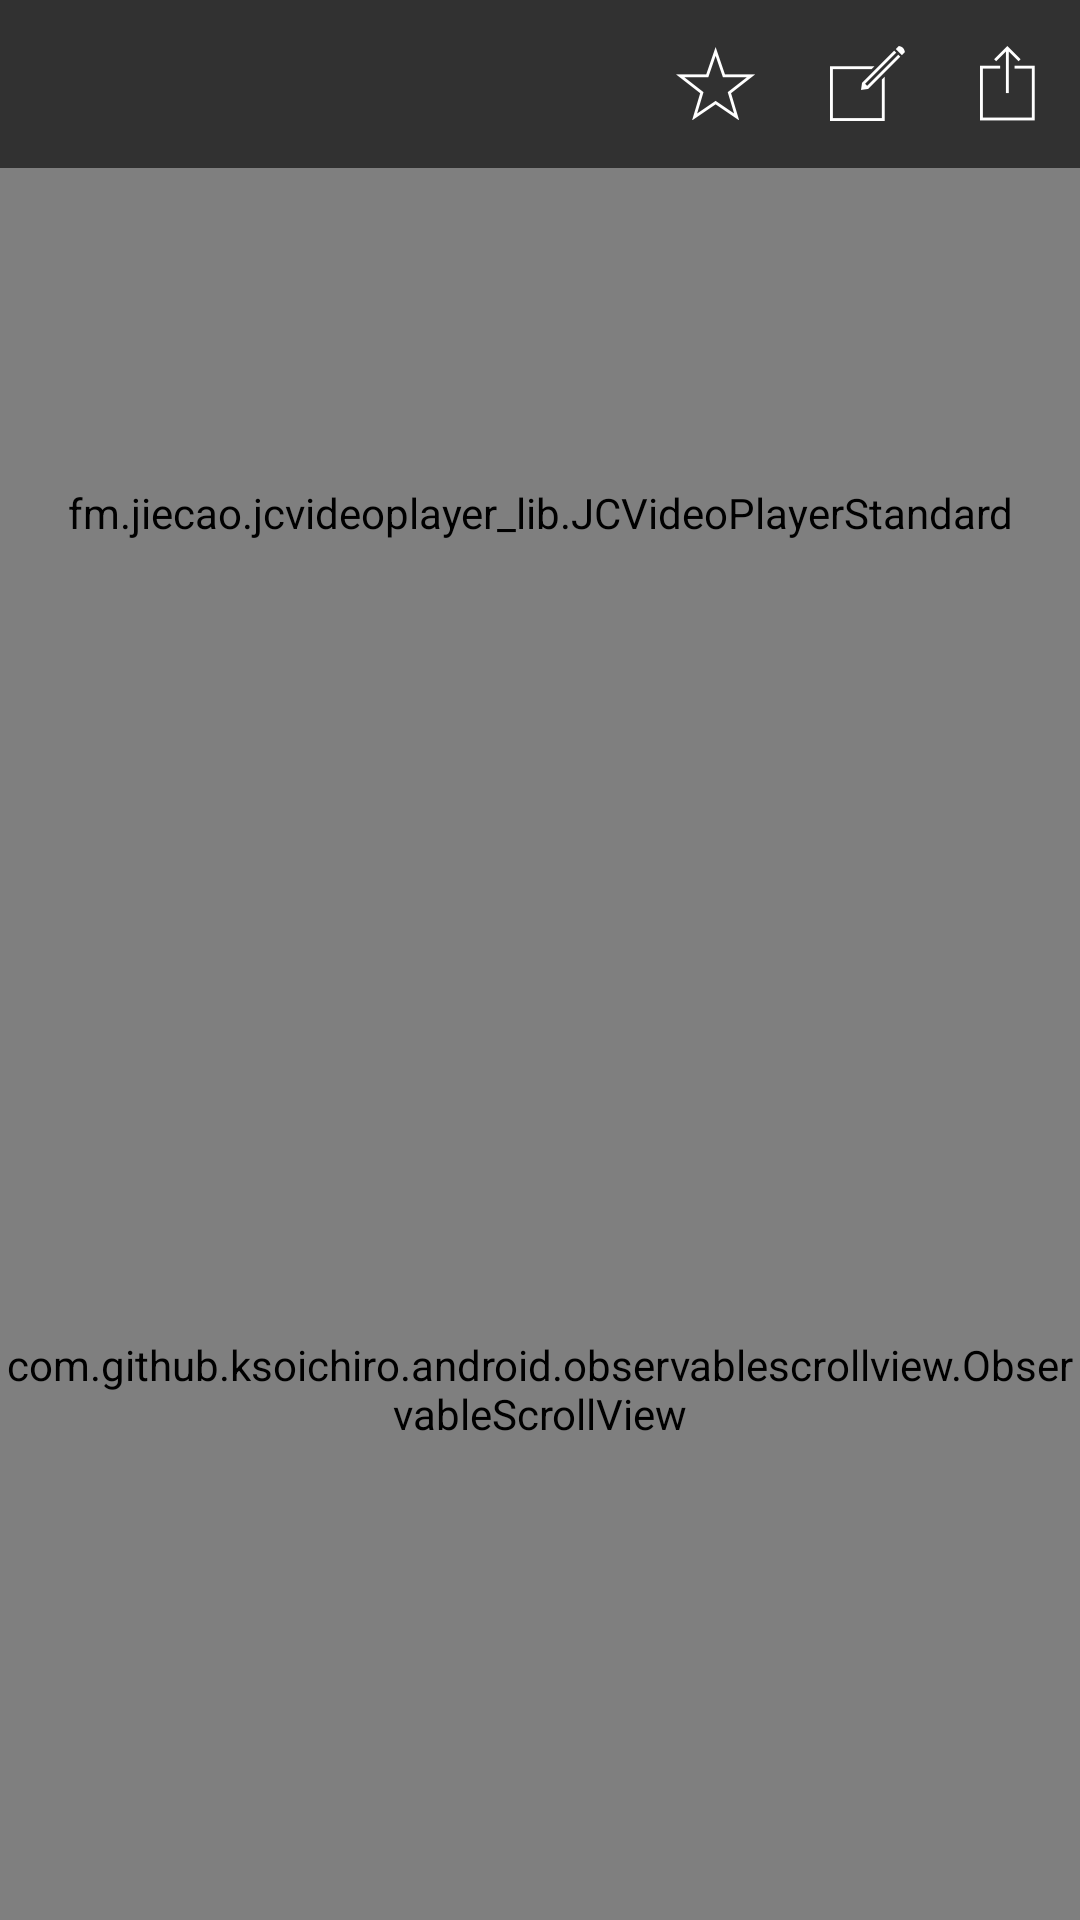

Icon bounding boxes for this 1080px x 1920px phone screenshot, format (left=x1, top=y1, right=x2, bottom=y2):
favorite: (left=676, top=47, right=755, bottom=120)
share: (left=980, top=46, right=1035, bottom=121)
write: (left=830, top=46, right=905, bottom=121)
